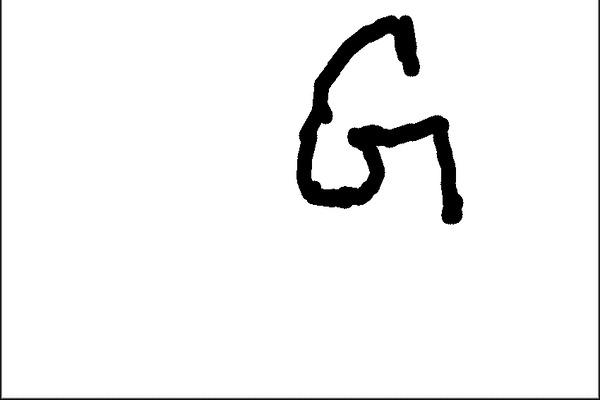G: (291, 10, 468, 225)
